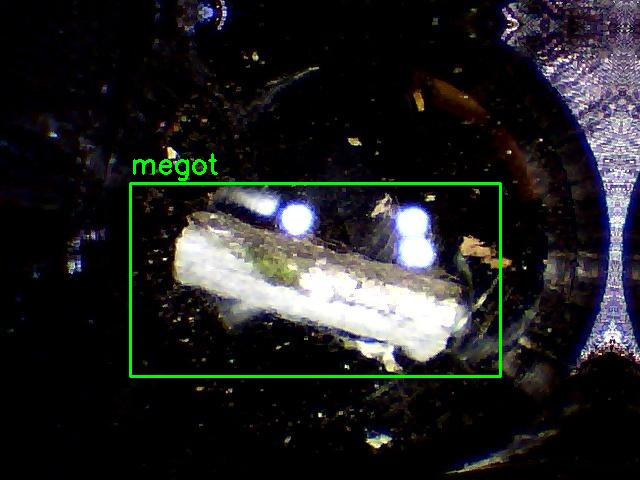megot: (130, 183, 500, 376)
